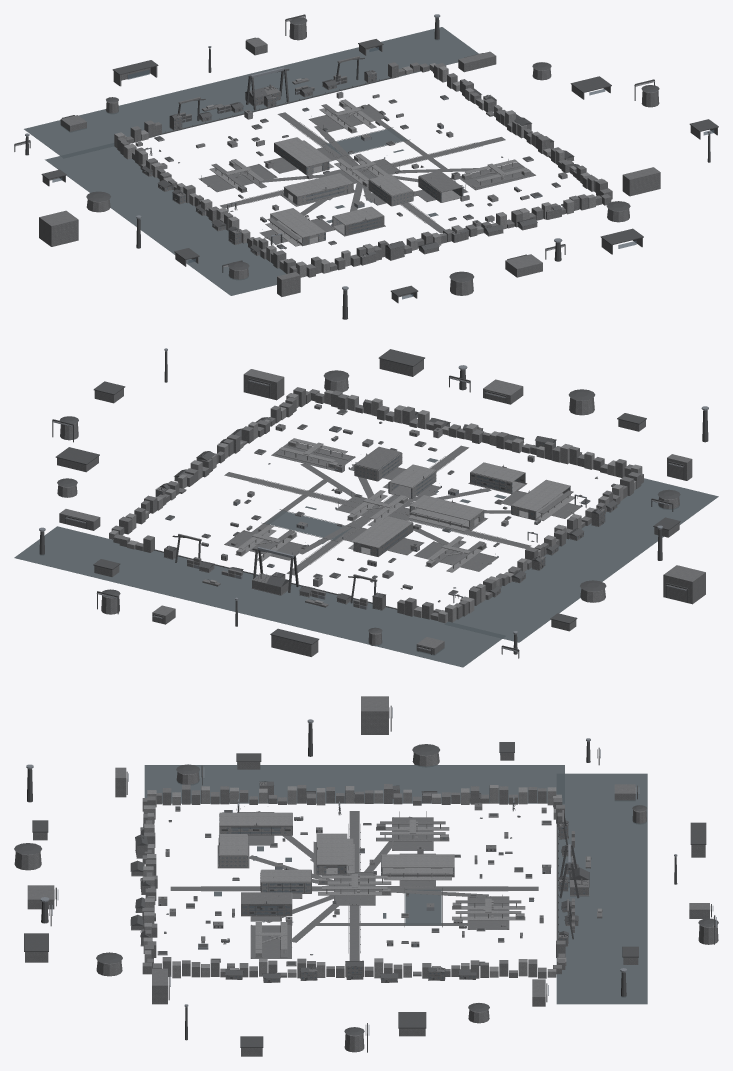
3 views of the same model, one above another, from view 1: azimuth 30°, elevation 25°; view 2: azimuth 150°, elevation 25°; view 3: azimuth 270°, elevation 25° (orthographic). The views are drawn at different scales.
Parts seen in each view (by area): view 1: HB_z03_LOD0_water, HB_z03_LOD0_wall_alt, HB_z03_LOD0_wall, HB_z03_LOD0_trim, HB_z03_LOD0_road, HB_z03_LOD0_obstacle, HB_z03_LOD0_glass, HB_z03_LOD0_accent; view 2: HB_z03_LOD0_water, HB_z03_LOD0_wall_alt, HB_z03_LOD0_wall, HB_z03_LOD0_trim, HB_z03_LOD0_road, HB_z03_LOD0_obstacle, HB_z03_LOD0_accent, HB_z03_LOD0_glass; view 3: HB_z03_LOD0_water, HB_z03_LOD0_wall_alt, HB_z03_LOD0_wall, HB_z03_LOD0_trim, HB_z03_LOD0_road, HB_z03_LOD0_obstacle, HB_z03_LOD0_glass, HB_z03_LOD0_accent.
Boxes of the visible parts, bbox=[...] form: HB_z03_LOD0_water: bbox=[24, 27, 478, 295]; HB_z03_LOD0_wall_alt: bbox=[39, 23, 717, 303]; HB_z03_LOD0_wall: bbox=[114, 63, 602, 277]; HB_z03_LOD0_trim: bbox=[14, 14, 718, 319]; HB_z03_LOD0_road: bbox=[159, 105, 535, 249]; HB_z03_LOD0_obstacle: bbox=[15, 16, 654, 267]; HB_z03_LOD0_glass: bbox=[52, 47, 714, 299]; HB_z03_LOD0_accent: bbox=[16, 14, 710, 289]; HB_z03_LOD0_water: bbox=[14, 458, 718, 667]; HB_z03_LOD0_wall_alt: bbox=[57, 359, 705, 656]; HB_z03_LOD0_wall: bbox=[109, 390, 642, 623]; HB_z03_LOD0_trim: bbox=[39, 349, 708, 658]; HB_z03_LOD0_road: bbox=[224, 440, 597, 602]; HB_z03_LOD0_obstacle: bbox=[53, 377, 686, 651]; HB_z03_LOD0_accent: bbox=[39, 348, 708, 652]; HB_z03_LOD0_glass: bbox=[156, 415, 616, 594]; HB_z03_LOD0_water: bbox=[144, 765, 647, 1004]; HB_z03_LOD0_wall_alt: bbox=[14, 696, 718, 1056]; HB_z03_LOD0_wall: bbox=[142, 785, 601, 978]; HB_z03_LOD0_trim: bbox=[14, 705, 718, 1052]; HB_z03_LOD0_road: bbox=[169, 808, 538, 960]; HB_z03_LOD0_obstacle: bbox=[49, 707, 713, 1035]; HB_z03_LOD0_glass: bbox=[158, 753, 597, 980]; HB_z03_LOD0_accent: bbox=[26, 707, 716, 1035].
Size of the model in its own units: 634 by 32 by 558.
Materials: 9 (7 with a texture image).
